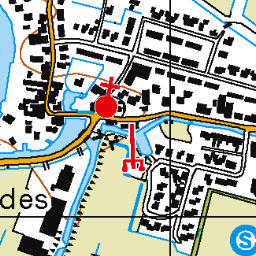church: (92, 73, 122, 123)
